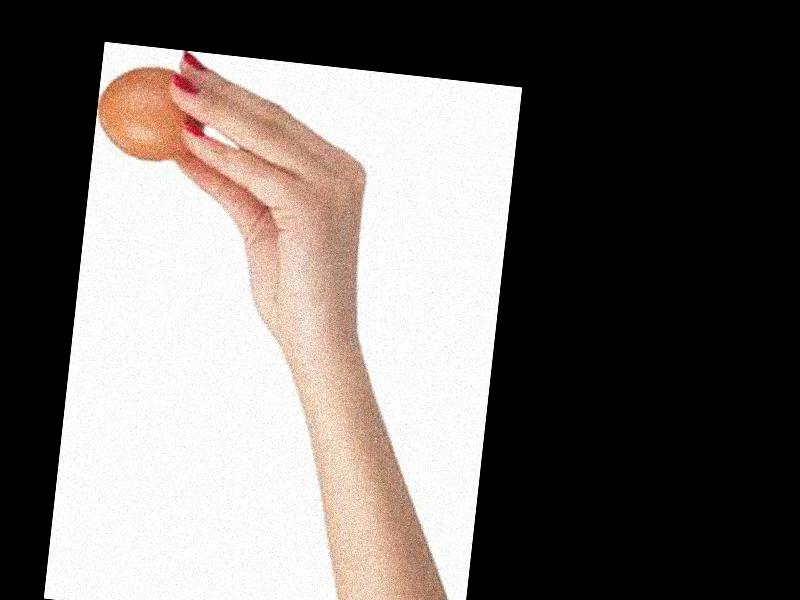Eggs: (94, 60, 207, 166)
